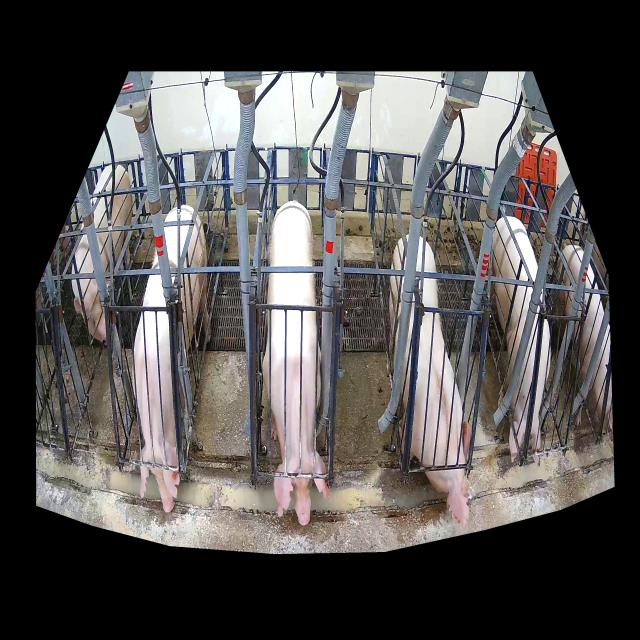pig: (132, 206, 212, 513), (389, 235, 471, 527), (262, 200, 329, 526), (490, 217, 551, 462), (555, 244, 614, 440), (71, 164, 133, 340)
